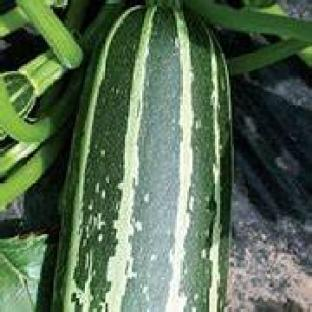Zucchini: (54, 7, 230, 311)
